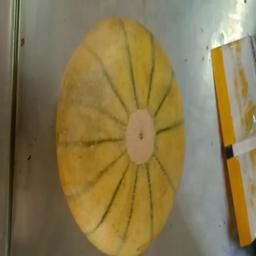Melon Semifresh: (51, 13, 193, 256)
